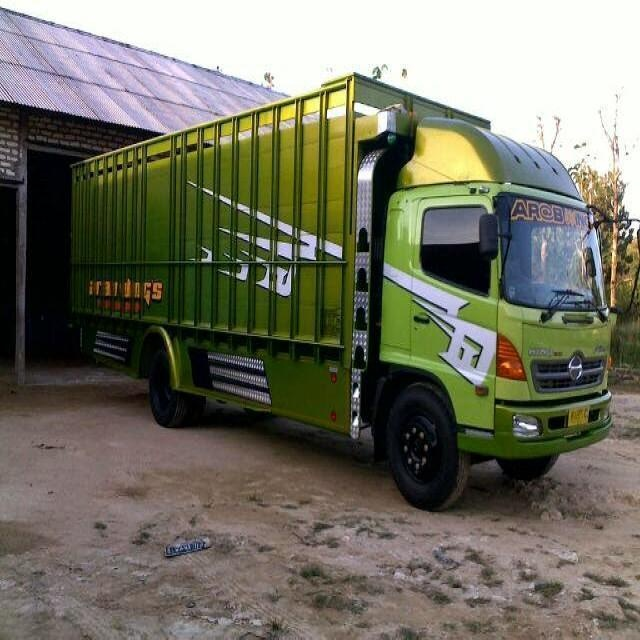Truck: (75, 73, 612, 499)
